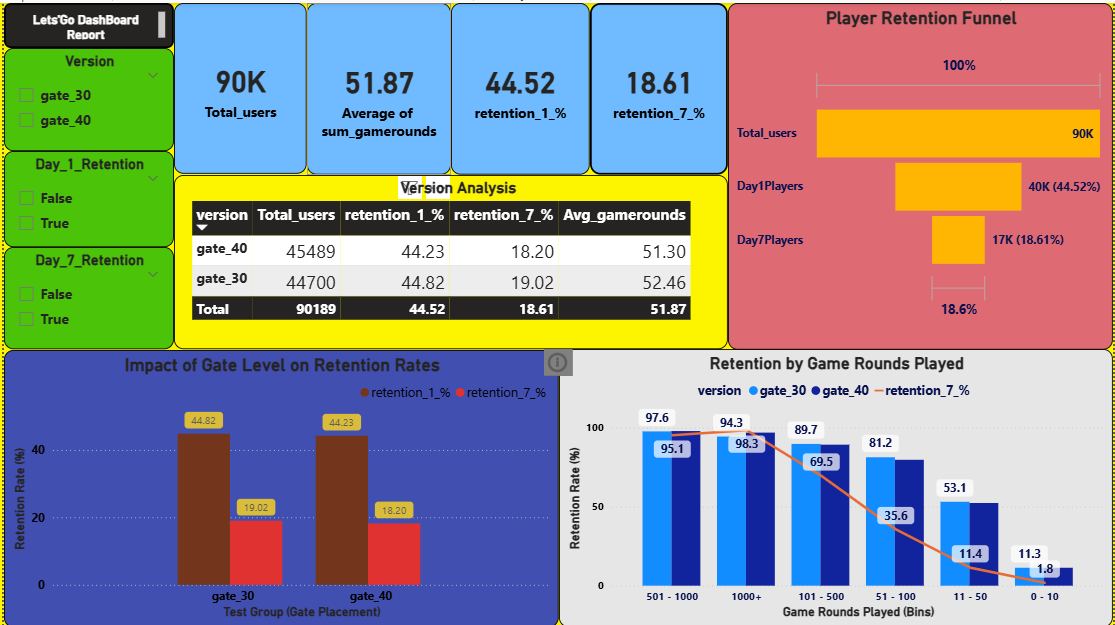

Layout of this report page (visuals, bound fields, positions):
{"tool":"powerbi","page":{"name":"Page 1","canvas":[1280,720],"ordinal":0},"visuals":[{"type":"card","fields":{"Values":["cookie_cats.Total_users"]},"box":[196.2,0,153.5,197.3],"z":0},{"type":"card","fields":{"Values":["cookie_cats.retention_7_%","select"]},"box":[676.2,0,159.2,198.5],"z":1000},{"type":"card","fields":{"Values":["select","cookie_cats.retention_1_%"]},"box":[515.8,0,160.4,198.5],"z":2000},{"type":"card","fields":{"Values":["Avg(cookie_cats.sum_gamerounds)"]},"box":[349.6,0,166.2,198.5],"z":3000},{"type":"lineClusteredColumnComboChart","title":"Retention by Game Rounds Played","fields":{"Category":["cookie_cats.GameRounds_Bin_1"],"Series":["cookie_cats.version"],"Y":["cookie_cats.retention_1_%"],"Y2":["cookie_cats.retention_7_%"]},"box":[640.4,399.2,639.2,320.8],"z":4000},{"type":"pivotTable","title":"Version Analysis","fields":{"Rows":["cookie_cats.version"],"Values":["cookie_cats.Total_users","cookie_cats.retention_1_%","cookie_cats.retention_7_%","cookie_cats.Avg_gamerounds"]},"box":[196.2,198.5,639.2,200.8],"z":5000},{"type":"slicer","title":"Version","fields":{"Values":["cookie_cats.version"]},"box":[0,51.9,196.2,118.8],"z":6000},{"type":"slicer","title":"Day_1_Retention","fields":{"Values":["cookie_cats.retention_1"]},"box":[0,170.8,196.2,110.8],"z":7000},{"type":"slicer","title":"Day_7_Retention","fields":{"Values":["cookie_cats.retention_7"]},"box":[0,281.5,196.2,117.7],"z":8000},{"type":"funnel","title":"Player Retention Funnel","fields":{"Y":["cookie_cats.Total_users","cookie_cats.Day1Players","cookie_cats.Day7Players"]},"box":[835.4,0,444.2,400.4],"z":9000},{"type":"clusteredColumnChart","title":"Impact of Gate Level on Retention Rates","fields":{"Y":["cookie_cats.retention_1_%","cookie_cats.retention_7_%"],"Category":["cookie_cats.version"]},"box":[0,400.4,640.4,319.6],"z":10000},{"type":"textbox","box":[0,0,196.2,51.9],"z":11000},{"type":"actionButton","title":"Info","box":[623.1,399.2,33.5,31.2],"z":12000}]}

Visuals, with their boxes in screenshot pixels (x1, y1, x2, y2), scaled from the page's 1280x720 canvas onto the 1115x625 screenshot:
card - cookie_cats.Total_users: 171 0 305 171
card - cookie_cats.retention_7_% x select: 589 0 728 172
card - select x cookie_cats.retention_1_%: 449 0 589 172
card - Avg(cookie_cats.sum_gamerounds): 305 0 449 172
"Retention by Game Rounds Played" lineClusteredColumnComboChart: 558 347 1114 624
"Version Analysis" pivotTable: 171 172 728 347
"Version" slicer: 0 45 171 148
"Day_1_Retention" slicer: 0 148 171 244
"Day_7_Retention" slicer: 0 244 171 347
"Player Retention Funnel" funnel: 728 0 1114 348
"Impact of Gate Level on Retention Rates" clusteredColumnChart: 0 348 558 624
textbox: 0 0 171 45
"Info" actionButton: 543 347 572 374
